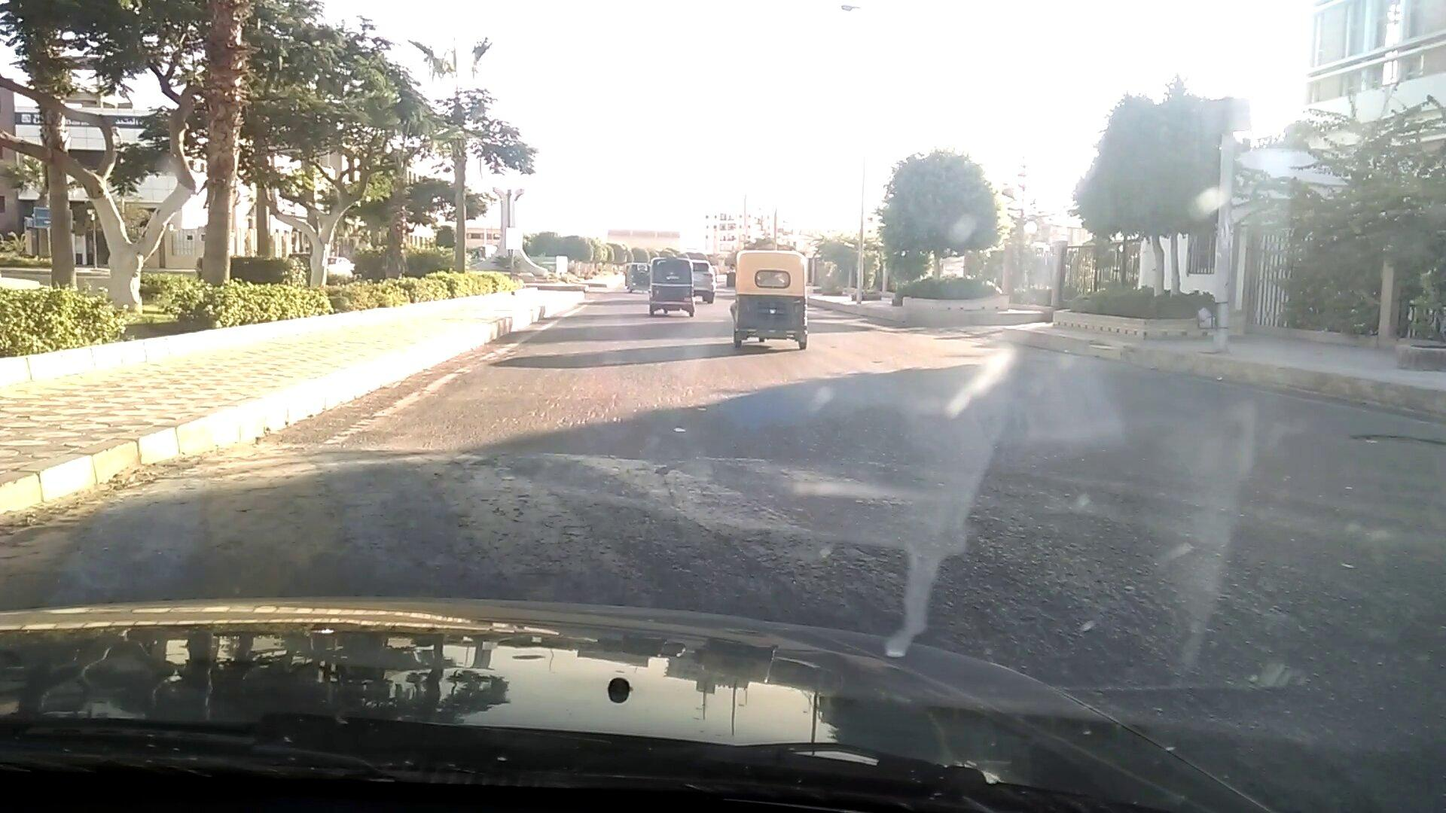Bump: (134, 459, 1437, 674)
